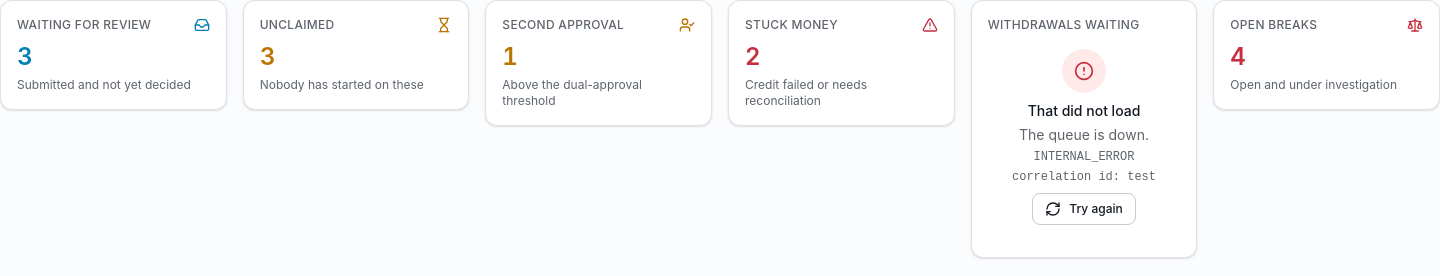
it: QueueTiles › breaks only the withdrawals tile when that list is down
The width and height of the screenshot is (1440, 276).
Expected: the text "The queue is down." is shown, top-left (1012, 125), bottom-right (1156, 145)
Expected: the text "3" below "Waiting for review" is shown, top-left (17, 42), bottom-right (32, 71)
Click the button "Try again" at (1084, 209), box top-left (1032, 193), bottom-right (1136, 225)
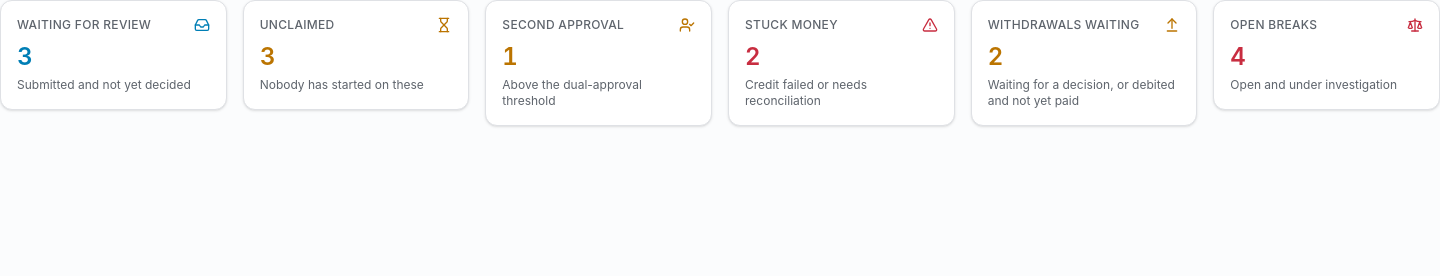
Expected: the text "2" below "Withdrawals waiting" is shown, top-left (988, 42), bottom-right (1003, 71)
